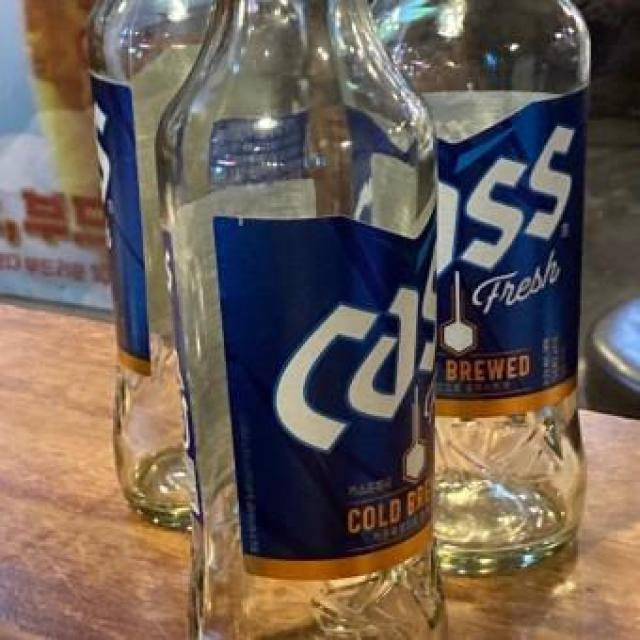beer-bottle: (149, 0, 449, 640), (367, 0, 589, 573), (85, 0, 226, 534)
